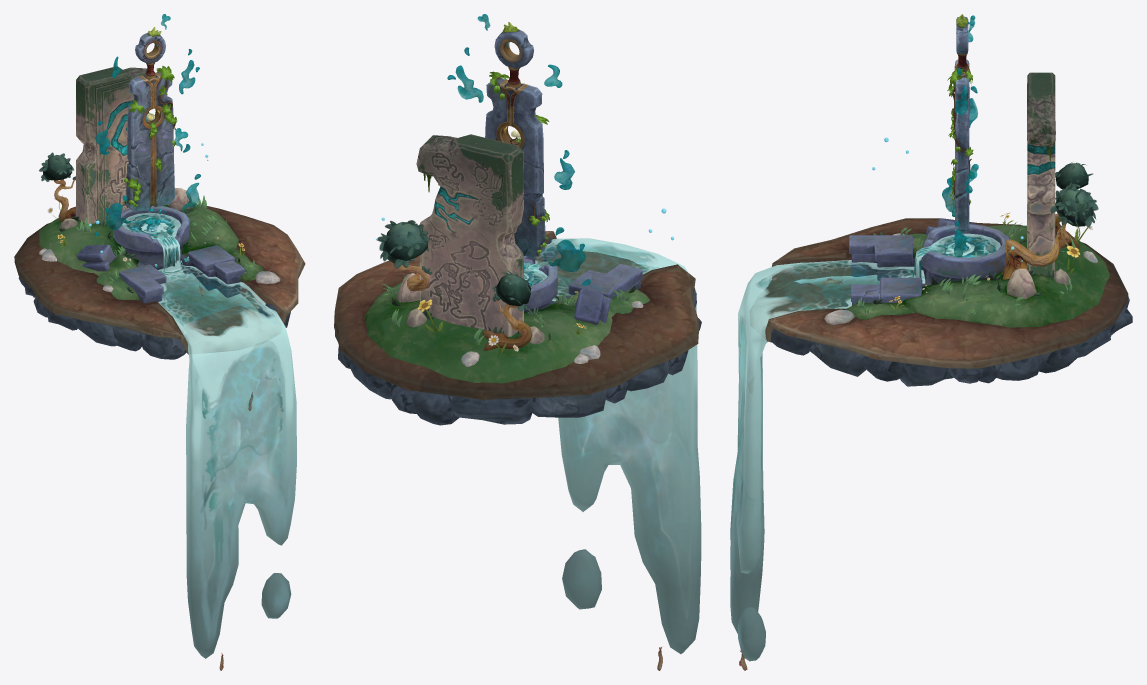
Rendered from land3.glb.
3 views of the same model, side by side, from view 1: azimuth 30°, elevation 25°; view 2: azimuth 150°, elevation 25°; view 3: azimuth 270°, elevation 25° (orthographic). The views are drawn at different scales.
Parts seen in each view (by area): view 1: FISH_blinn1_0, Grass_Low_Environment_0, Sword_Low_SwordStone_Mat_0, Bush2_Low_VegButNoOp_0; view 2: Grass_Low_Environment_0, FISH_blinn1_0, Sword_Low_SwordStone_Mat_0, Bush2_Low_VegButNoOp_0; view 3: Grass_Low_Environment_0, FISH_blinn1_0, Sword_Low_SwordStone_Mat_0, Bush2_Low_VegButNoOp_0.
Part boxes in pixels (x1,y1,x2,y2): FISH_blinn1_0: (39, 112, 296, 670); Grass_Low_Environment_0: (14, 14, 305, 359); Sword_Low_SwordStone_Mat_0: (76, 27, 177, 223); Bush2_Low_VegButNoOp_0: (43, 115, 149, 180); Grass_Low_Environment_0: (334, 14, 701, 425); FISH_blinn1_0: (376, 208, 701, 670); Sword_Low_SwordStone_Mat_0: (416, 22, 549, 336); Bush2_Low_VegButNoOp_0: (383, 222, 531, 306); Grass_Low_Environment_0: (750, 15, 1132, 386); FISH_blinn1_0: (730, 137, 1098, 670); Sword_Low_SwordStone_Mat_0: (947, 14, 1055, 275); Bush2_Low_VegButNoOp_0: (1055, 163, 1093, 226).
Size of the model in its own units: 2.87 by 6.27 by 3.37.
5 materials, 5 textured.
